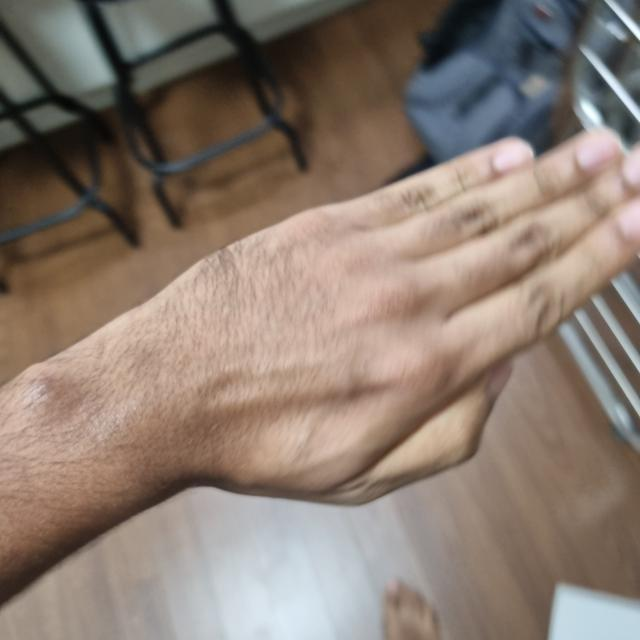Paper: (108, 133, 639, 494)
